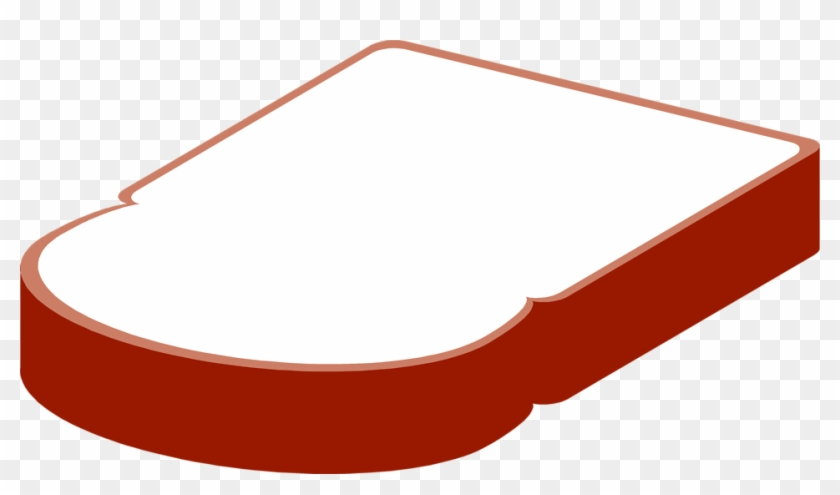slice of bread: (14, 38, 822, 488)
